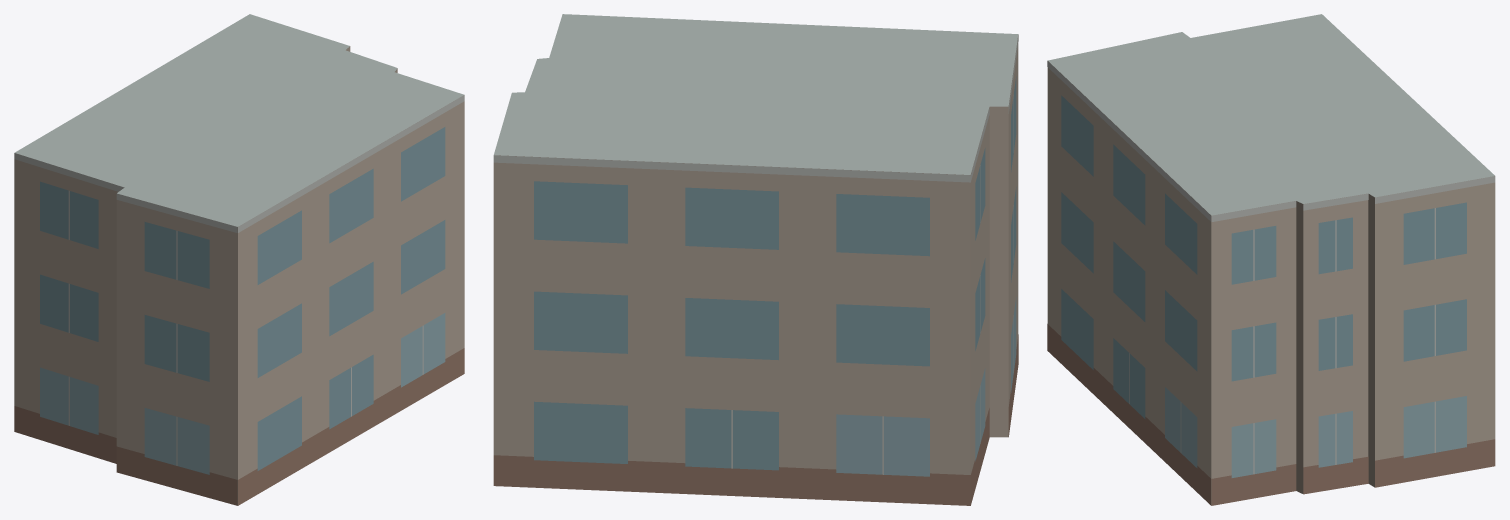
File: survey-upis-32661134.glb
3 views of the same model, side by side, from view 1: azimuth 30°, elevation 25°; view 2: azimuth 150°, elevation 25°; view 3: azimuth 270°, elevation 25° (orthographic). The views are drawn at different scales.
Parts seen in each view (by area): view 1: survey-upis-32661134.tmp; view 2: survey-upis-32661134.tmp; view 3: survey-upis-32661134.tmp.
Boxes of the visible parts, <box> form: survey-upis-32661134.tmp: <box>14,14,464,505</box>; survey-upis-32661134.tmp: <box>493,14,1018,505</box>; survey-upis-32661134.tmp: <box>1047,14,1495,505</box>.
Size of the model in its own units: 16.1 by 10.8 by 15.11.
